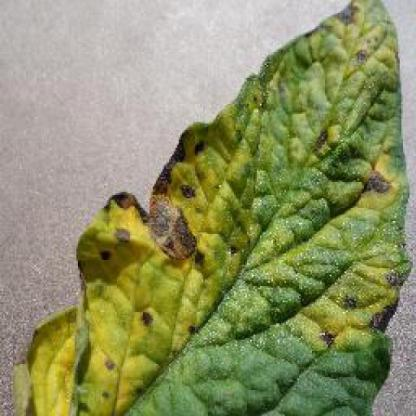Tomato_Blight: (18, 0, 408, 415)
